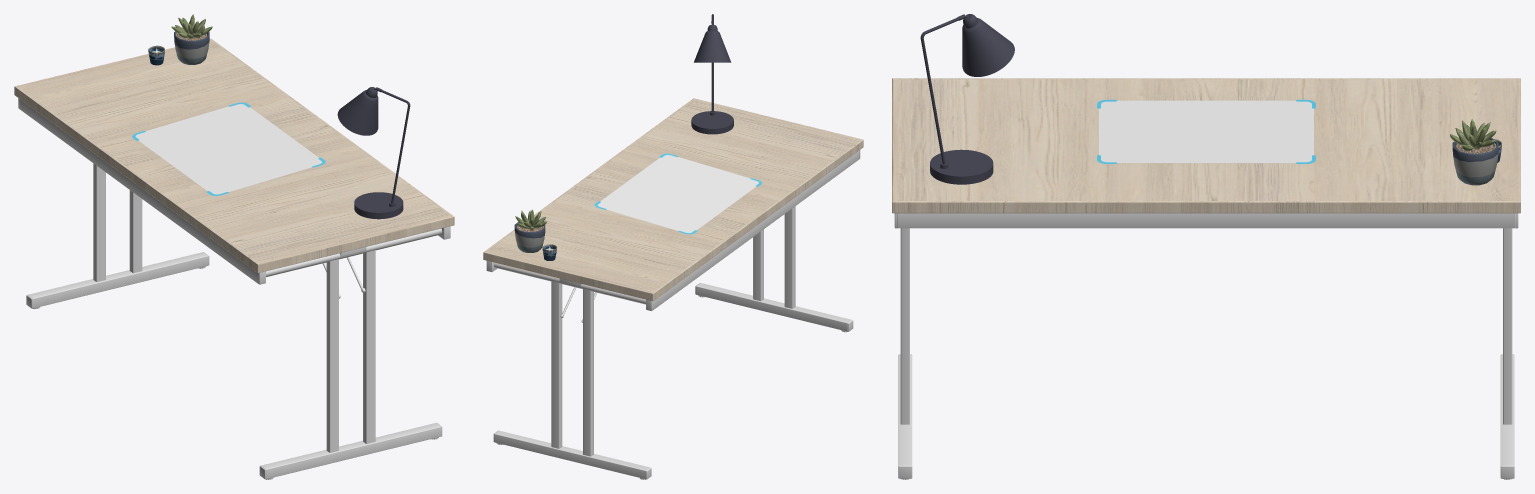
The model's file is msw_desk_and_decor.glb.
3 views of the same model, side by side, from view 1: azimuth 30°, elevation 25°; view 2: azimuth 150°, elevation 25°; view 3: azimuth 270°, elevation 25° (orthographic). The views are drawn at different scales.
Parts seen in each view (by area): view 1: desk.001, desk, drawing_canvas, desk_lamp, G-cactus_gasteria_1; view 2: desk.001, desk, drawing_canvas, desk_lamp, G-cactus_gasteria_1; view 3: desk.001, desk, drawing_canvas, desk_lamp, G-cactus_gasteria_1.
Boxes of the visible parts, x1,y1,x2,y2 form: desk.001: [14, 38, 454, 272]; desk: [14, 39, 453, 479]; drawing_canvas: [132, 102, 325, 195]; desk_lamp: [337, 87, 410, 219]; G-cactus_gasteria_1: [171, 14, 212, 64]; desk.001: [483, 98, 863, 303]; desk: [485, 139, 862, 479]; drawing_canvas: [594, 153, 762, 234]; desk_lamp: [691, 14, 733, 134]; G-cactus_gasteria_1: [514, 209, 547, 252]; desk.001: [892, 78, 1520, 213]; desk: [892, 78, 1520, 479]; drawing_canvas: [1097, 99, 1315, 163]; desk_lamp: [920, 14, 1014, 184]; G-cactus_gasteria_1: [1450, 119, 1498, 185].
Bounding box in the file's own units: 0.7 × 1.16 × 1.5.
Materials: 14 (8 with a texture image).
